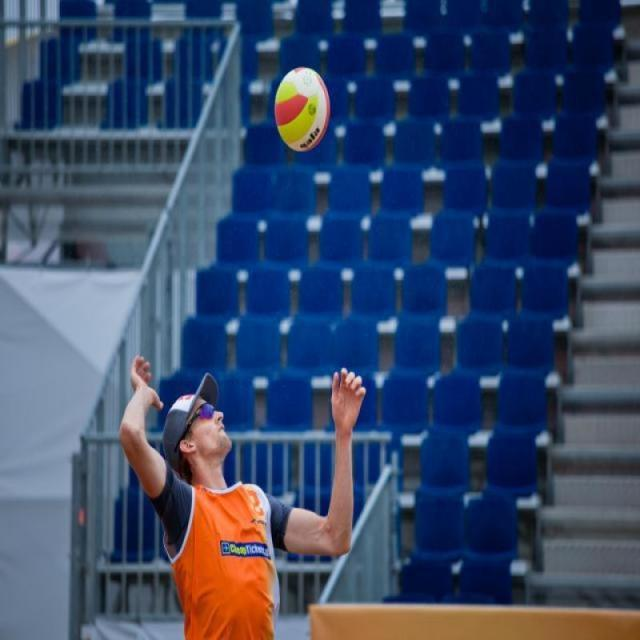volleyball: (271, 62, 335, 154)
